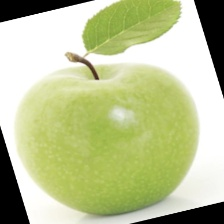apple: (26, 40, 193, 197)
